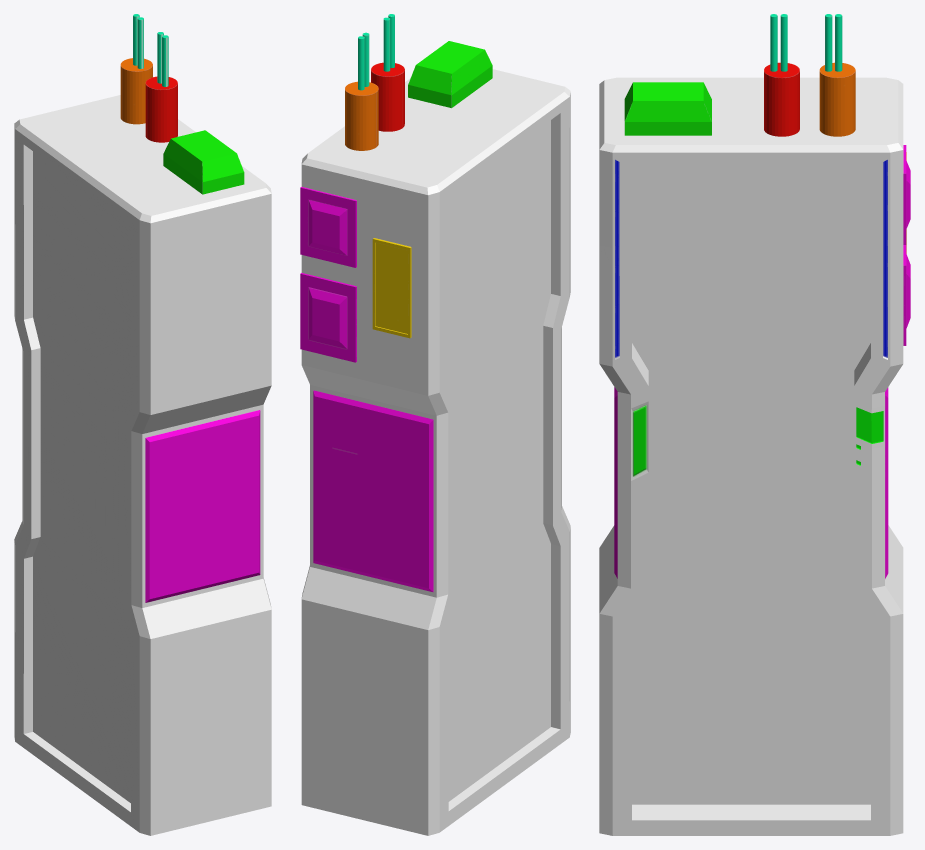
The model's file is SkyScraper.obj.
3 views of the same model, side by side, from view 1: azimuth 30°, elevation 25°; view 2: azimuth 150°, elevation 25°; view 3: azimuth 270°, elevation 25° (orthographic). The views are drawn at different scales.
Visible parts, largest first — view 1: SkyScraper_1_Cube; view 2: SkyScraper_1_Cube; view 3: SkyScraper_1_Cube.
Boxes of the visible parts, x1=… form: SkyScraper_1_Cube: x1=14, y1=14, x2=271, y2=835; SkyScraper_1_Cube: x1=300, y1=14, x2=570, y2=835; SkyScraper_1_Cube: x1=599, y1=14, x2=910, y2=835.
Size of the model in its own units: 20 by 105 by 36.84.
1 material, 1 textured.
